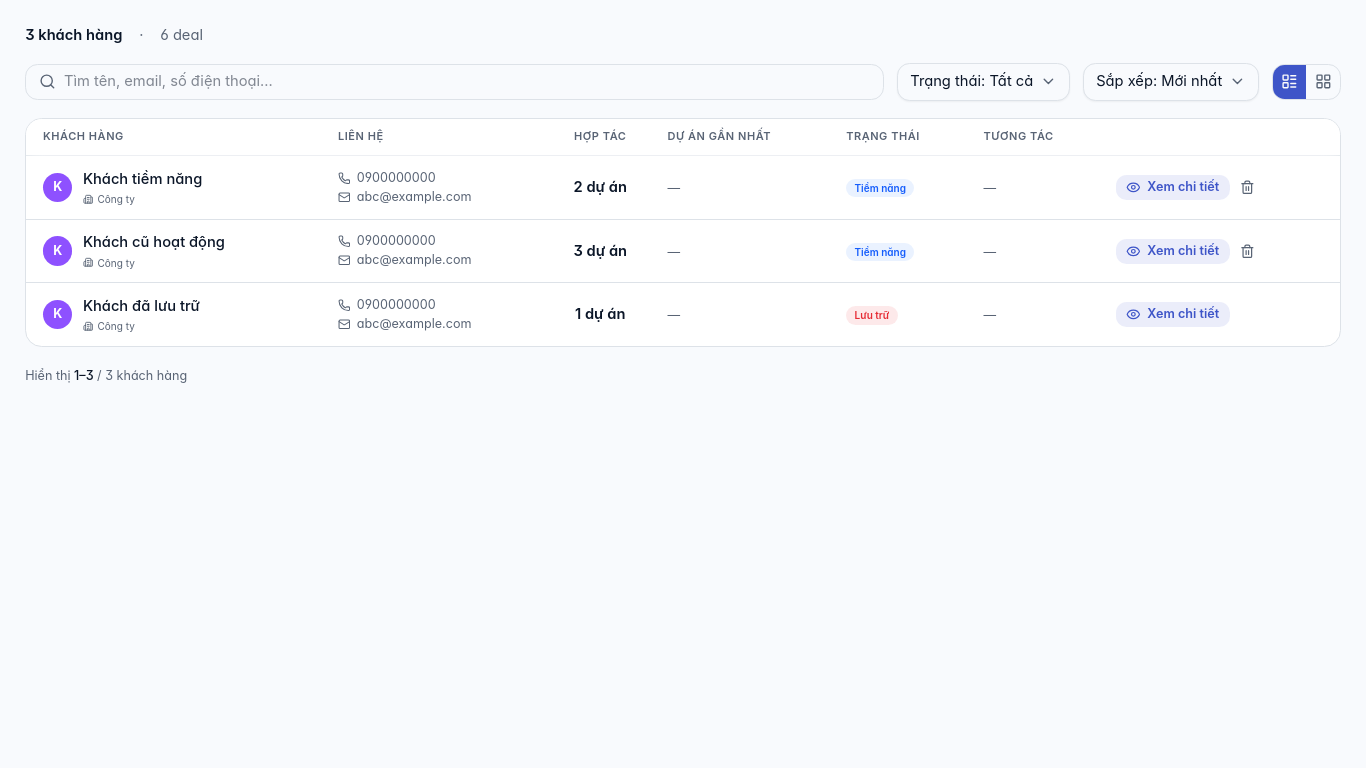
Scenario: <ClientRecords /> — lưu trữ khách › hộp xác nhận nói rõ: dự án đang chạy của khách sẽ tự đưa vào Kho lưu trữ
Click the button titled "Xóa" in the row of "Khách tiềm năng" at (1247, 188), box [1234,174,1261,201]
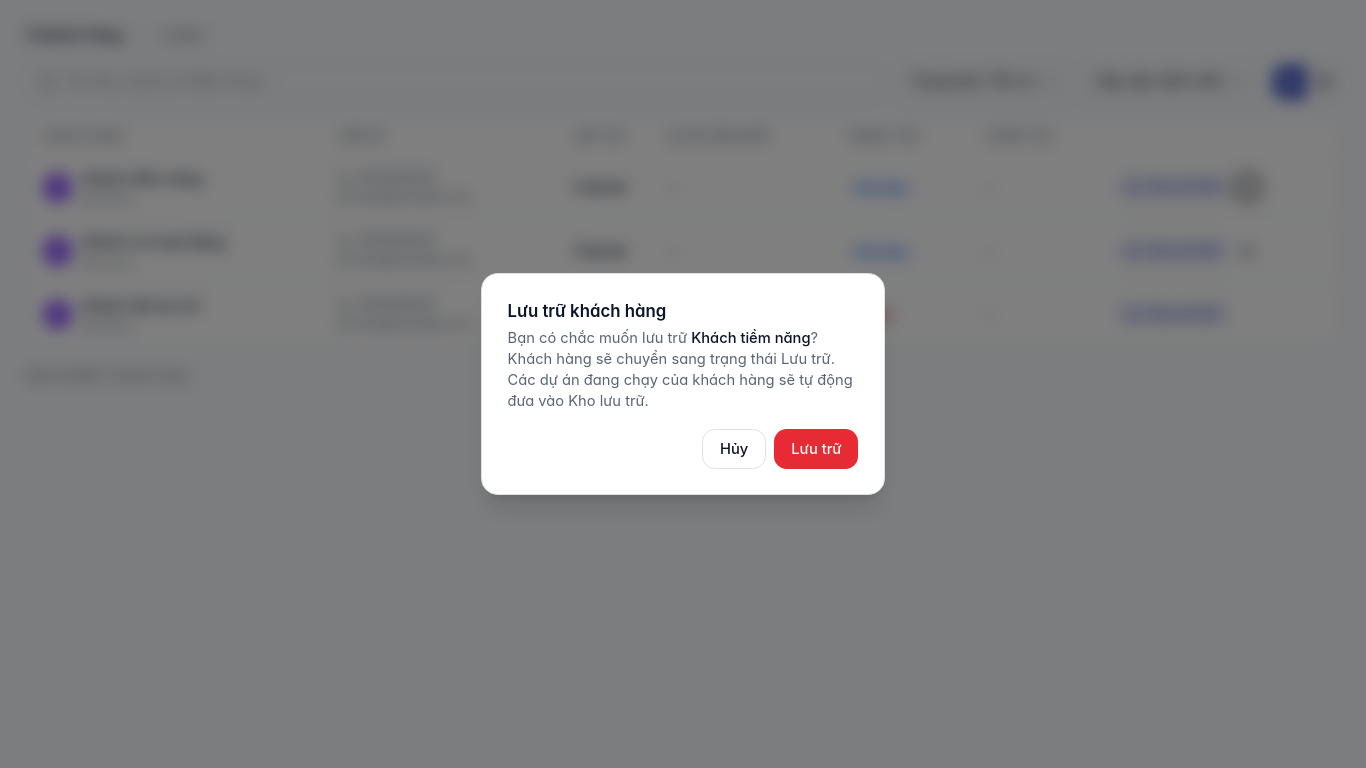
Check: the text "Khách tiềm năng" is shown, box [691,329,810,347]
Check: the text "Khách hàng sẽ chuyển sang trạng thái Lưu trữ." is shown, box [508,329,853,410]
Check: the text "Các dự án đang chạy của khách hàng sẽ tự động đưa vào Kho lưu trữ." is shown, box [508,329,853,410]
